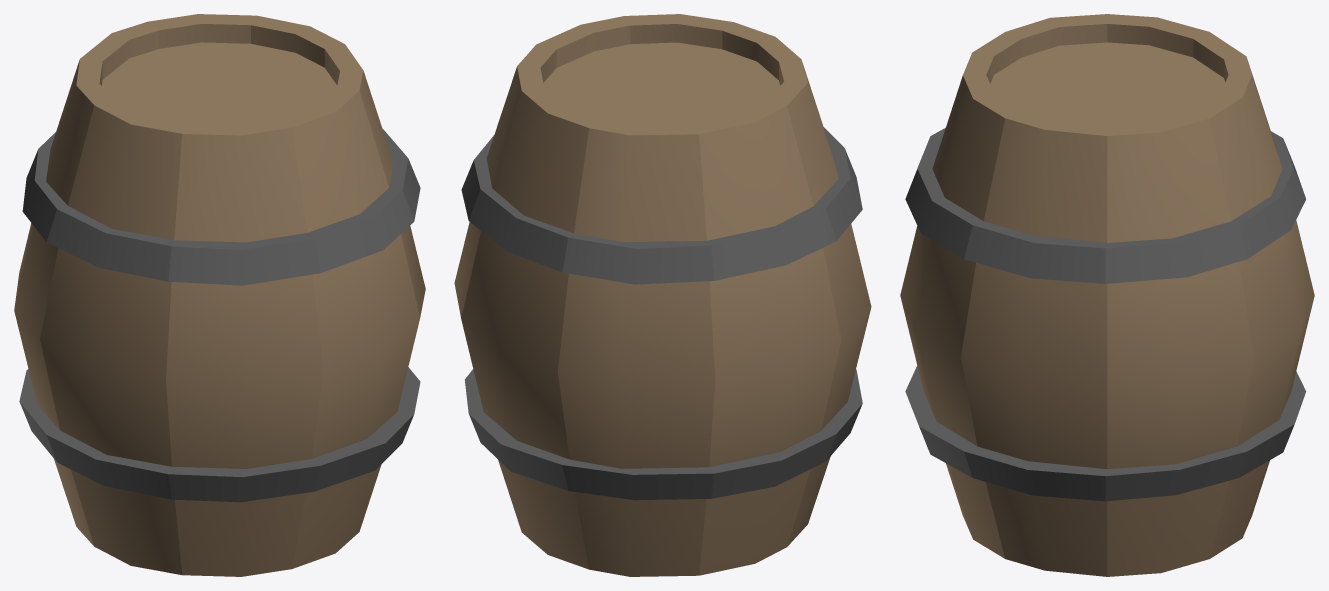
Rendered from Barrel_Blockout.fbx.
The picture shows the model from 3 angles, left to right: view 1: azimuth 30°, elevation 25°; view 2: azimuth 150°, elevation 25°; view 3: azimuth 270°, elevation 25°; orthographic projection.
Parts seen in each view (by area): view 1: polySurface58; view 2: polySurface58; view 3: polySurface58.
Part boxes in pixels (left/top/right/bottom): polySurface58: left=14, top=14, right=425, bottom=576; polySurface58: left=454, top=14, right=871, bottom=576; polySurface58: left=900, top=14, right=1314, bottom=576.
Bounding box in the file's own units: 0.6453 × 0.7571 × 0.6453.
